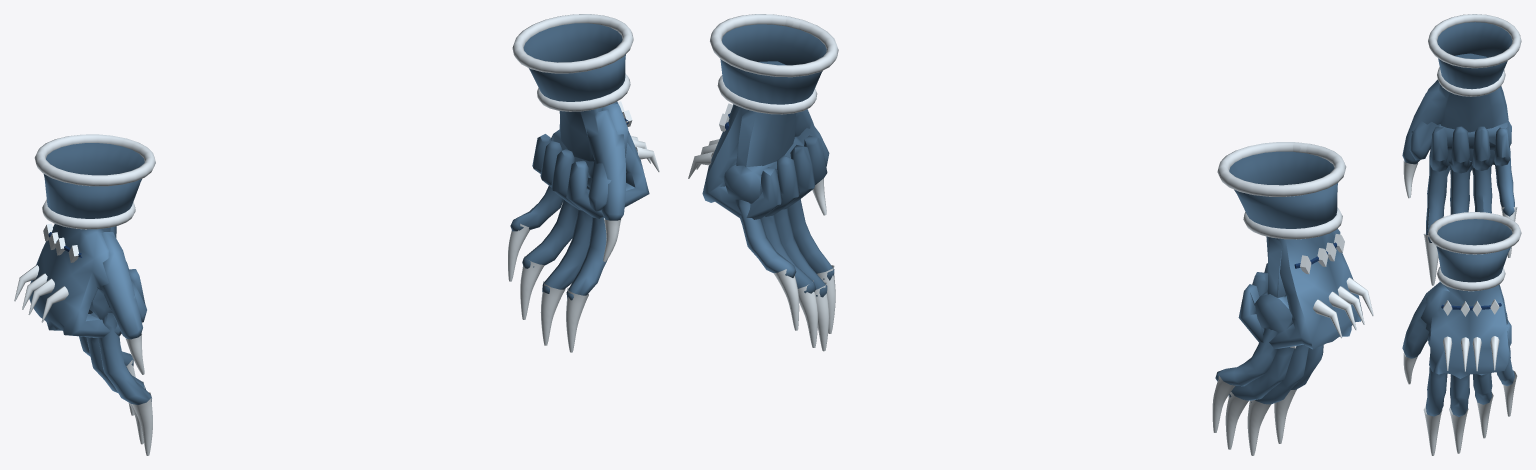
The model's file is g_dragonknight_ice_f.glb.
3 renders of one model, left to right at view 1: azimuth 30°, elevation 25°; view 2: azimuth 150°, elevation 25°; view 3: azimuth 270°, elevation 25°, orthographic. The views are drawn at different scales.
Visible parts, largest first — view 1: ArmL_HandOpen, ArmL_Gauntlet, ArmR_Gauntlet, ArmR_Hand, ArmR_HandOpen, ArmL_Hand; view 2: ArmL_HandOpen, ArmR_Hand, ArmL_Gauntlet, ArmR_Gauntlet, ArmL_Hand, ArmR_HandOpen; view 3: ArmR_HandOpen, ArmL_Hand, ArmR_Gauntlet, ArmL_Gauntlet, ArmL_HandOpen, ArmR_Hand.
Part boxes in pixels (left/top/right/bottom): ArmL_HandOpen: left=508, top=107, right=625, bottom=352; ArmL_Gauntlet: left=512, top=14, right=633, bottom=111; ArmR_Gauntlet: left=34, top=134, right=155, bottom=229; ArmR_Hand: left=14, top=223, right=146, bottom=337; ArmR_HandOpen: left=79, top=226, right=152, bottom=455; ArmL_Hand: left=532, top=101, right=659, bottom=218; ArmL_HandOpen: left=735, top=65, right=835, bottom=351; ArmR_Hand: left=1238, top=229, right=1373, bottom=349; ArmL_Gauntlet: left=710, top=14, right=838, bottom=114; ArmR_Gauntlet: left=1217, top=142, right=1346, bottom=239; ArmL_Hand: left=688, top=61, right=829, bottom=219; ArmR_HandOpen: left=1212, top=236, right=1323, bottom=455; ArmR_HandOpen: left=1402, top=82, right=1517, bottom=285; ArmL_Hand: left=1421, top=282, right=1511, bottom=378; ArmR_Gauntlet: left=1428, top=14, right=1521, bottom=96; ArmL_Gauntlet: left=1428, top=212, right=1521, bottom=291; ArmL_HandOpen: left=1402, top=281, right=1517, bottom=455; ArmR_Hand: left=1409, top=53, right=1511, bottom=173.
Bounding box in the file's own units: 0.6215 × 0.2808 × 0.1252.
